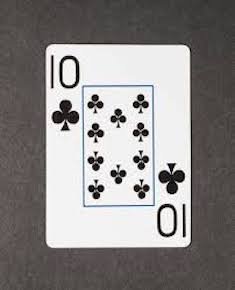TenOfClubs: (41, 40, 193, 249)
